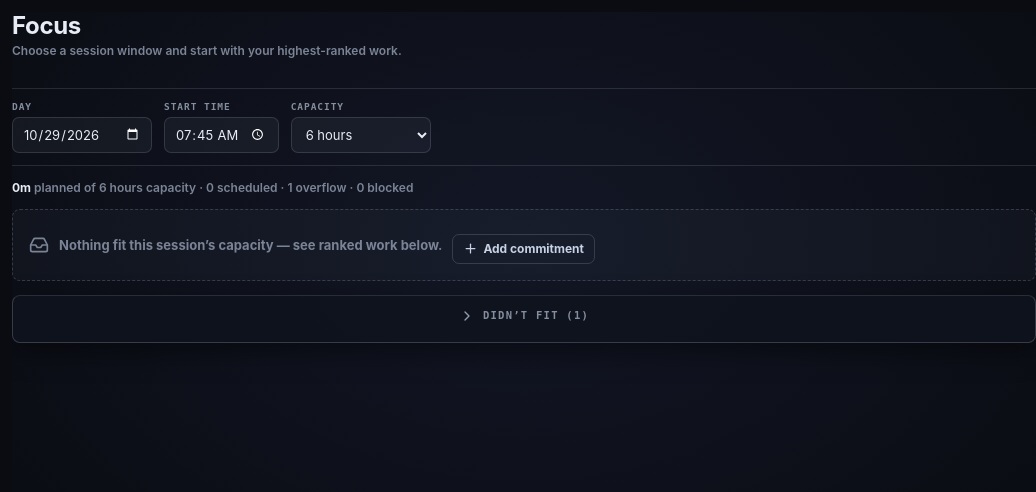
it: FocusPage › notes partially scheduled overflow tasks
Click the button "Didn’t fit (1)" at point(524, 316), box [31,308,1017,324]
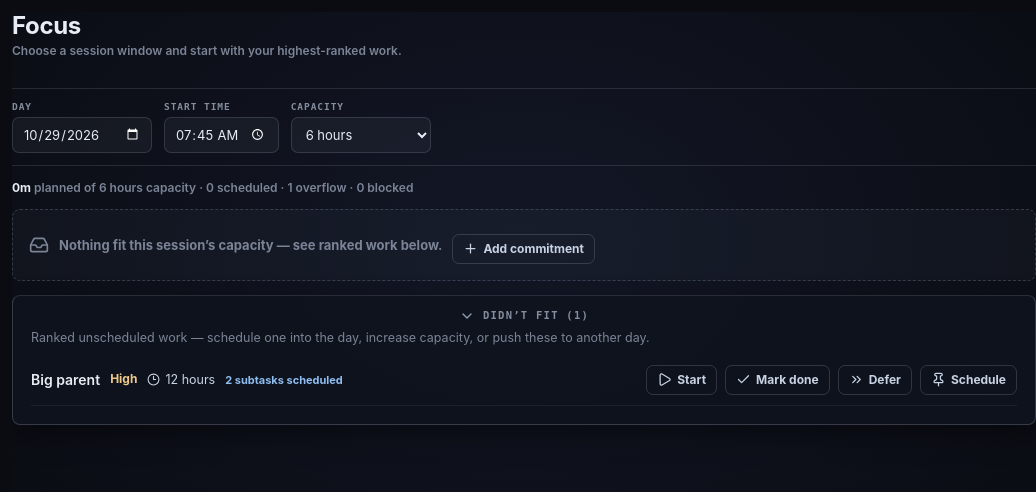
Check: the text "2 subtasks scheduled" is shown, box [225,373,343,387]
